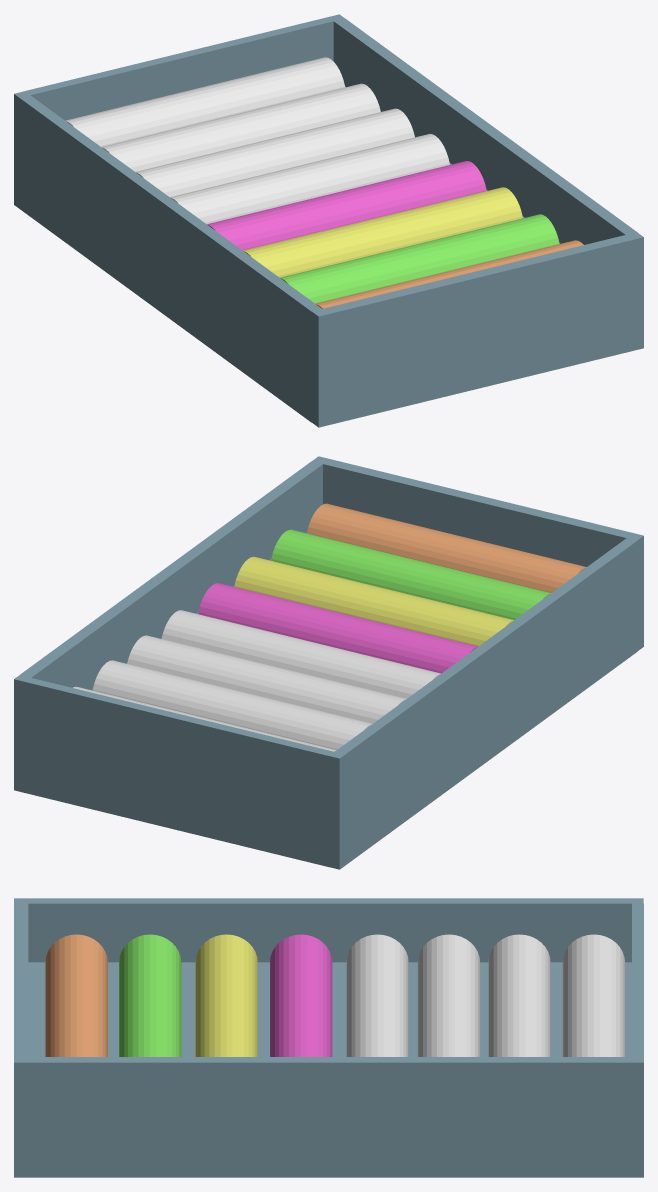
Rendered from cheack2.fbx.
3 renders of one model, top to bottom at view 1: azimuth 30°, elevation 25°; view 2: azimuth 150°, elevation 25°; view 3: azimuth 270°, elevation 25°, orthographic. The views are drawn at different scales.
Visible parts, largest first — view 1: Cube, Cylinder.001, Cylinder.007, Cylinder.004, Cylinder.006, Cylinder.003, Cylinder, Cylinder.005, Cylinder.002; view 2: Cube, Cylinder.006, Cylinder.003, Cylinder.005, Cylinder.001, Cylinder.002, Cylinder.007, Cylinder, Cylinder.004; view 3: Cube, Cylinder, Cylinder.005, Cylinder.007, Cylinder.001, Cylinder.002, Cylinder.003, Cylinder.004, Cylinder.006.
Part boxes in pixels (<box>): Cube: <box>14,14,643,427</box>; Cylinder.001: <box>243,187,522,277</box>; Cylinder.007: <box>170,134,449,224</box>; Cylinder.004: <box>65,57,345,146</box>; Cylinder.006: <box>207,161,486,250</box>; Cylinder.003: <box>280,214,559,303</box>; Cylinder: <box>135,108,414,196</box>; Cylinder.005: <box>101,83,380,171</box>; Cylinder.002: <box>315,240,583,308</box>; Cube: <box>14,456,643,869</box>; Cylinder.006: <box>198,583,477,673</box>; Cylinder.003: <box>271,529,550,619</box>; Cylinder.005: <box>92,660,372,749</box>; Cylinder.001: <box>234,556,513,646</box>; Cylinder.002: <box>307,503,586,592</box>; Cylinder.007: <box>161,610,440,698</box>; Cylinder: <box>127,635,406,723</box>; Cylinder.004: <box>73,686,336,751</box>; Cube: <box>14,898,643,1177</box>; Cylinder: <box>417,934,480,1056</box>; Cylinder.005: <box>488,934,550,1056</box>; Cylinder.007: <box>346,934,408,1056</box>; Cylinder.001: <box>195,934,257,1056</box>; Cylinder.002: <box>45,934,107,1056</box>; Cylinder.003: <box>119,934,181,1056</box>; Cylinder.004: <box>562,934,624,1056</box>; Cylinder.006: <box>270,934,332,1056</box>.
Size of the model in its own units: 387 by 126 by 626.
